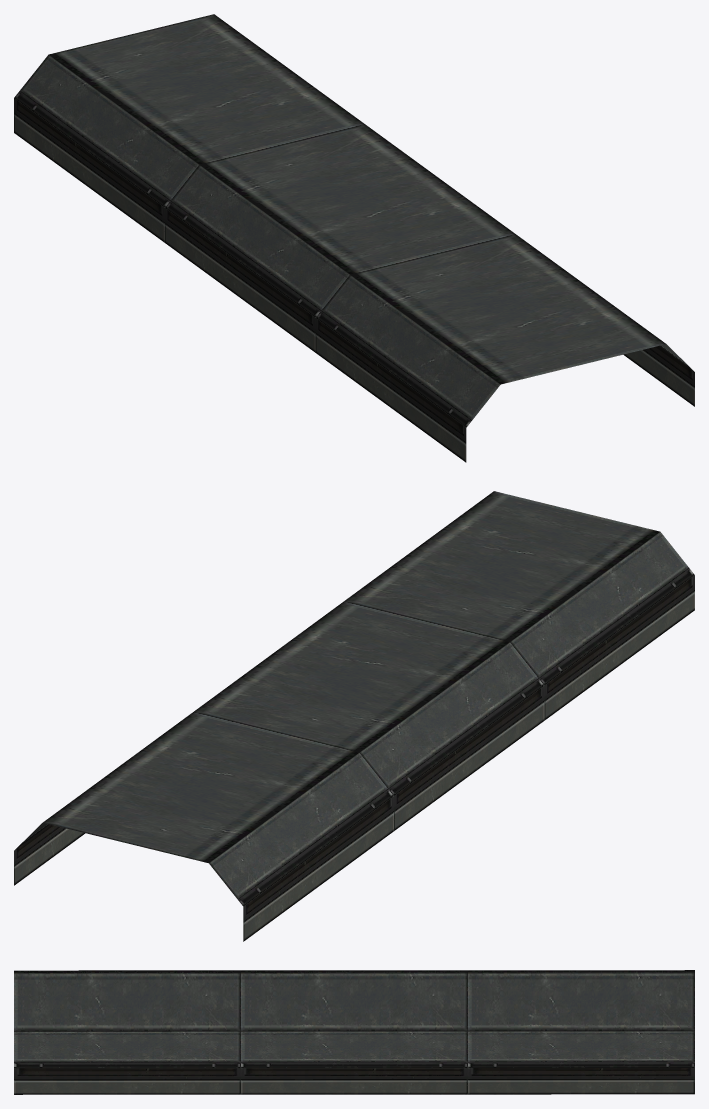
Rendered from Neon_CarRailBend_02.FBX.
3 views of the same model, one above another, from view 1: azimuth 30°, elevation 25°; view 2: azimuth 150°, elevation 25°; view 3: azimuth 270°, elevation 25° (orthographic). The views are drawn at different scales.
Visible parts, largest first — view 1: Neon_CarRailBend_02; view 2: Neon_CarRailBend_02; view 3: Neon_CarRailBend_02.
Part boxes in pixels (bbox=[...]): Neon_CarRailBend_02: bbox=[14, 14, 694, 462]; Neon_CarRailBend_02: bbox=[14, 491, 694, 941]; Neon_CarRailBend_02: bbox=[14, 970, 694, 1094].
Bounding box in the file's own units: 1.76 × 0.513 × 6.
